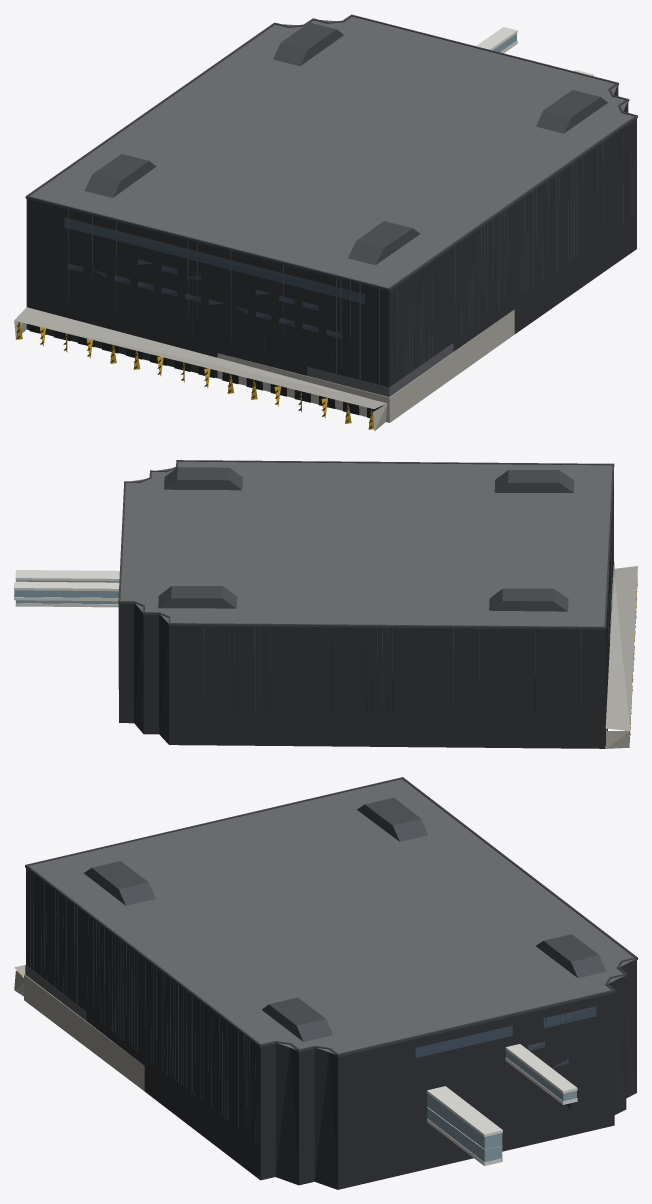
The model's file is ziggo-dome.lod1.glb.
The picture shows the model from 3 angles, top to bottom: view 1: azimuth 30°, elevation 25°; view 2: azimuth 150°, elevation 25°; view 3: azimuth 270°, elevation 25°; orthographic projection. The views are drawn at different scales.
Visible parts, largest first — view 1: ziggo-dome; view 2: ziggo-dome; view 3: ziggo-dome.
Part boxes in pixels (left/top/right/bottom): ziggo-dome: left=14, top=14, right=637, bottom=431; ziggo-dome: left=14, top=460, right=637, bottom=748; ziggo-dome: left=14, top=777, right=637, bottom=1189.
Size of the model in its own units: 155 by 34.1 by 132.
